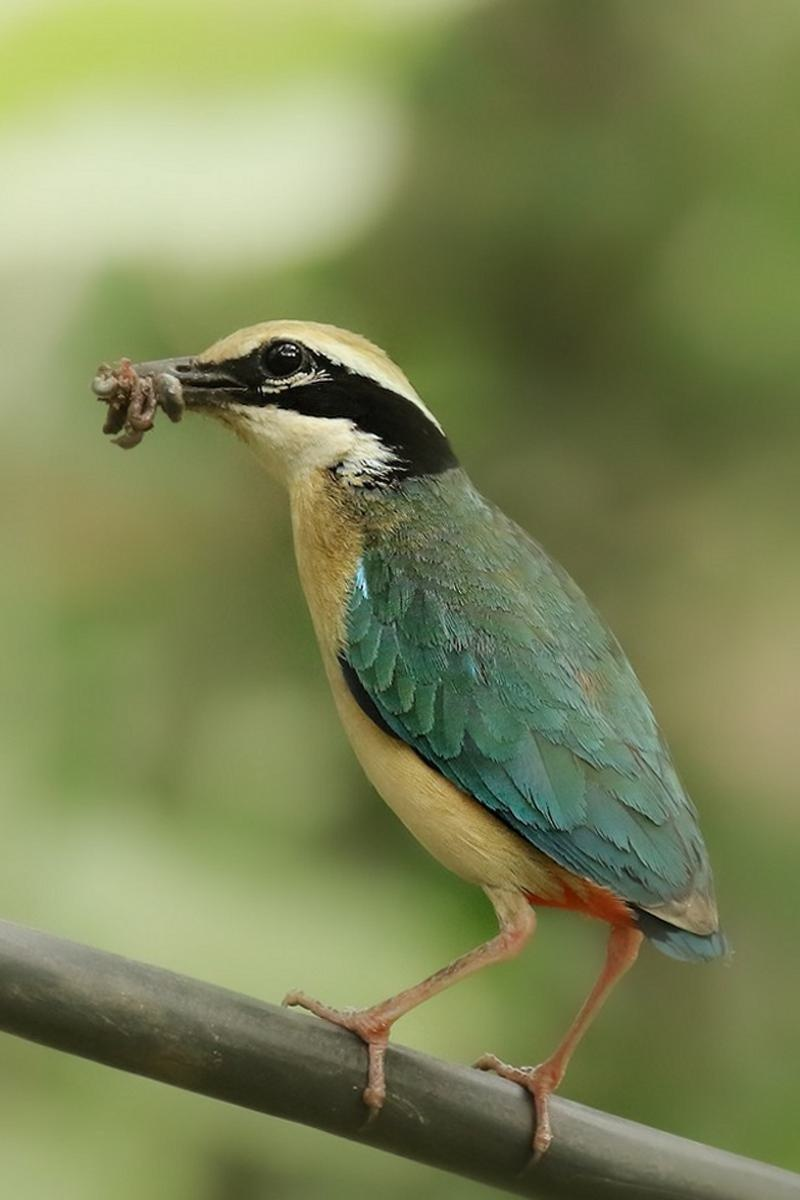pitta: (65, 285, 761, 1112)
